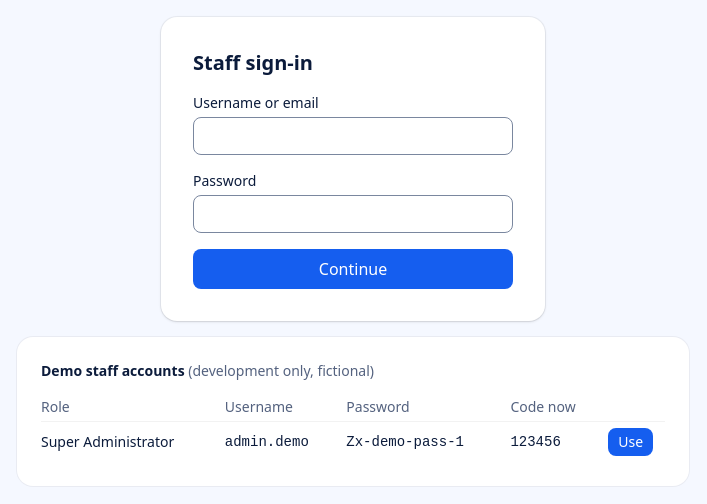
demo accounts on the sign-in page › lists the staff demo accounts in development and fills the form on request (customers are not shown in the portal)
This screenshot has width=707, height=504.
Expected: the text "Super Administrator" is shown, [41,421,225,462]
Expected: the text "Zx-demo-pass-1" is shown, [346,421,510,462]
What coordinates should you click on to do the following:
click the button with aria-label "Fill sign-in with Super Administrator"
I would click on:
 (631, 442)
Its box is [608,428,653,456].
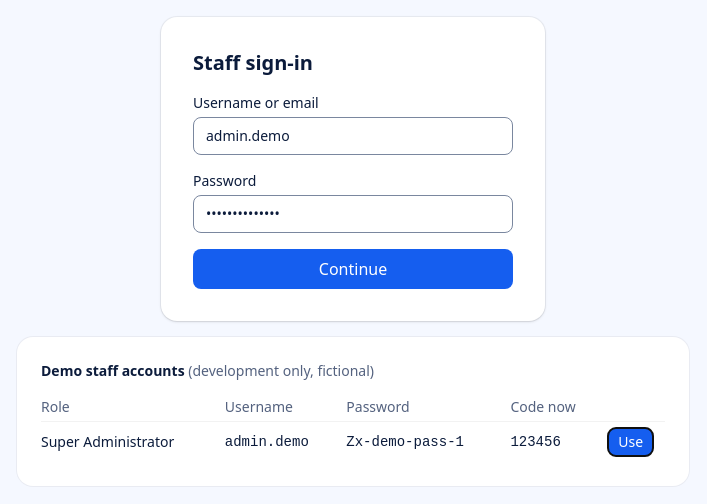
Now the field labelled "Username or email" holds "admin.demo", box [193,116,513,154]
Now the password field labelled "Password" holds "Zx-demo-pass-1", box [193,194,513,232]
